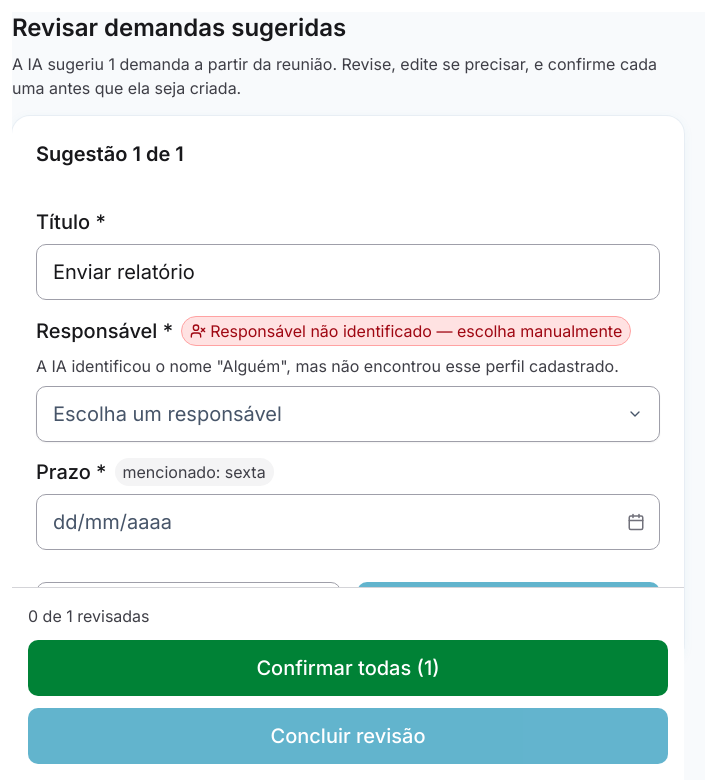
Scenario: SuggestionReviewList › disables Confirmar when responsável is unmatched, enables it once a responsável is picked
Expected: the text "não encontrou esse perfil cadastrado" is shown, [280,356,619,376]
Expected: the button "Confirmar" is disabled, [357,582,660,638]
Click the dropdown: (167, 414) [36,386,660,442]
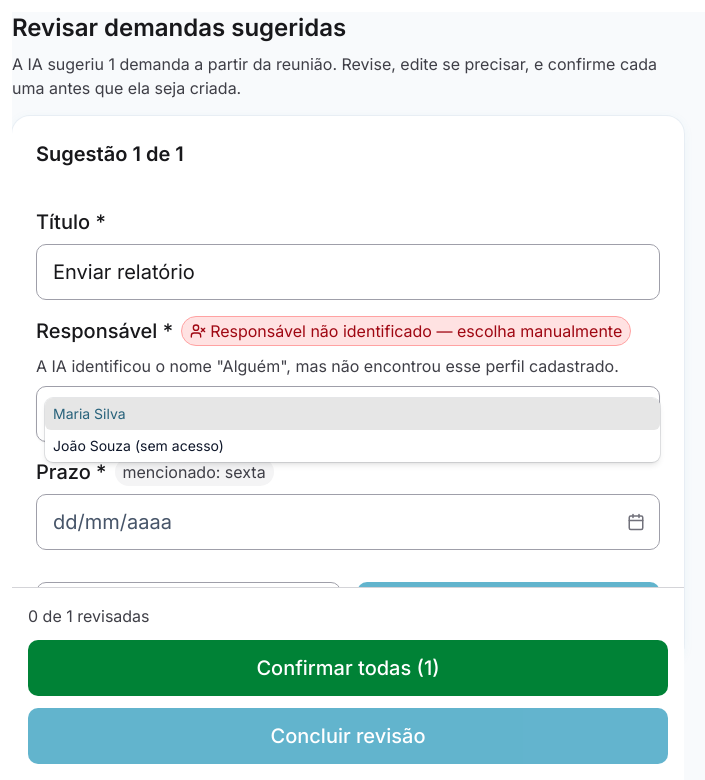
Click the option "Maria Silva": (89, 414) [45,398,660,430]
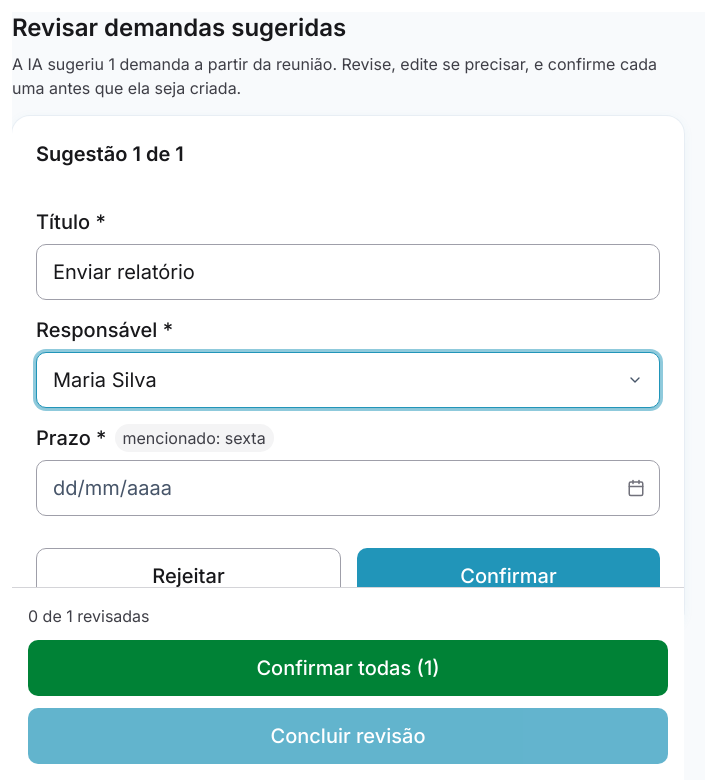
Result: the button "Confirmar" is enabled at [357,548,660,604]
